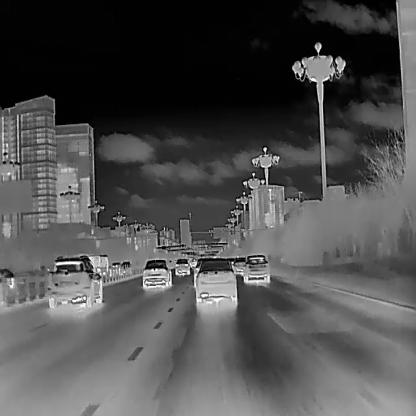car: (47, 255, 101, 310), (194, 260, 236, 304), (142, 258, 172, 288), (243, 254, 269, 283), (192, 259, 208, 285), (233, 255, 246, 273), (176, 258, 190, 274), (119, 260, 130, 275), (111, 262, 121, 274)
truck: (88, 254, 106, 274)
